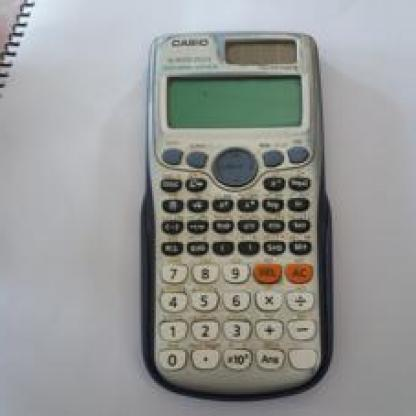calculator: (131, 19, 349, 402)
